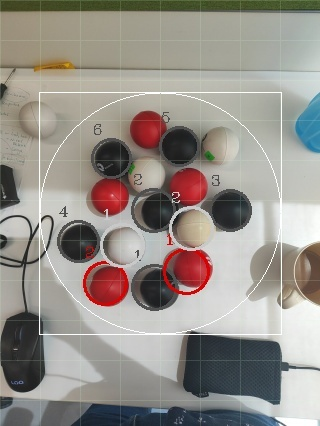Pelota blanca: (167, 206, 217, 248), (100, 225, 147, 267), (292, 241, 320, 307), (0, 214, 33, 270), (199, 124, 241, 166), (18, 100, 60, 139), (124, 156, 166, 192), (0, 403, 36, 425)
Pelota negra: (0, 310, 46, 392), (71, 403, 185, 425), (129, 262, 179, 312), (209, 188, 254, 232), (55, 220, 100, 264), (129, 188, 174, 232), (90, 137, 131, 179), (159, 124, 198, 166), (164, 406, 201, 425)
Pelota roja: (161, 246, 214, 296), (82, 260, 129, 307), (87, 177, 129, 219), (127, 108, 169, 150), (167, 166, 209, 206)
